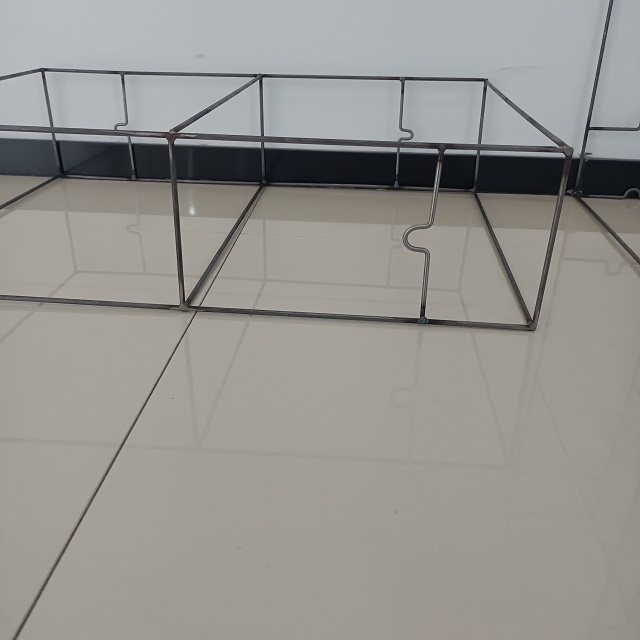curvedhole: (399, 208, 437, 264), (614, 172, 639, 206), (111, 111, 134, 144), (394, 123, 419, 148)
